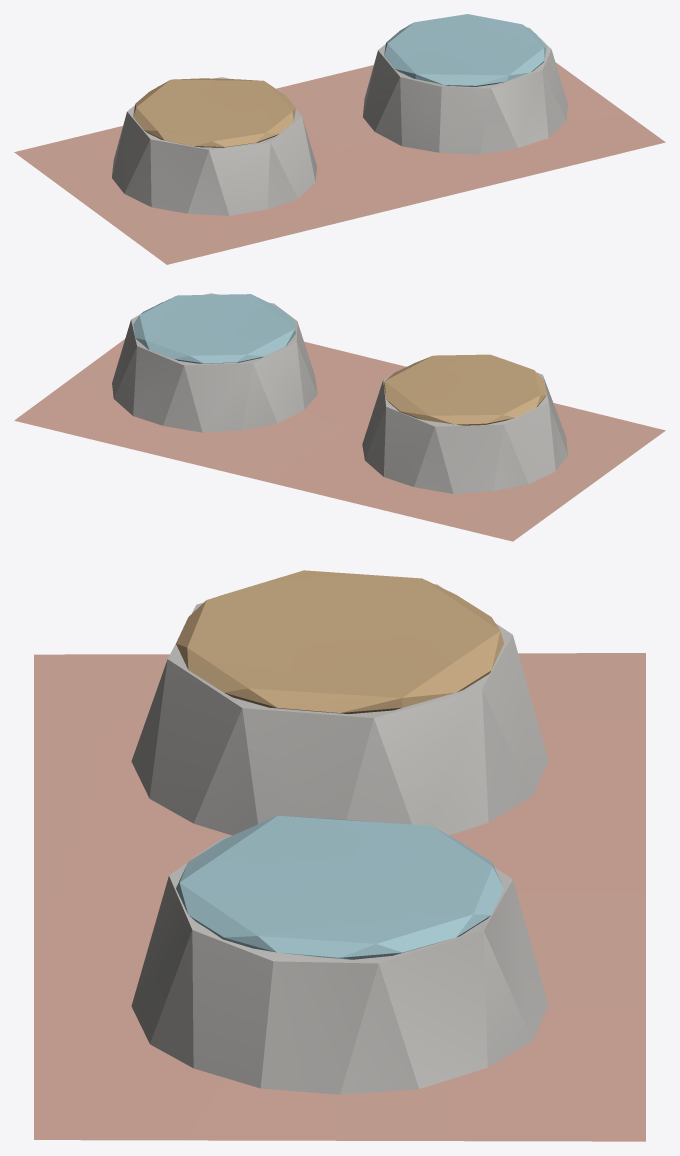
The model's file is petshop_food_bowls_low.glb.
3 views of the same model, one above another, from view 1: azimuth 30°, elevation 25°; view 2: azimuth 150°, elevation 25°; view 3: azimuth 270°, elevation 25° (orthographic). The views are drawn at different scales.
Size of the model in its own units: 0.5969 by 0.0808 by 0.3169.
